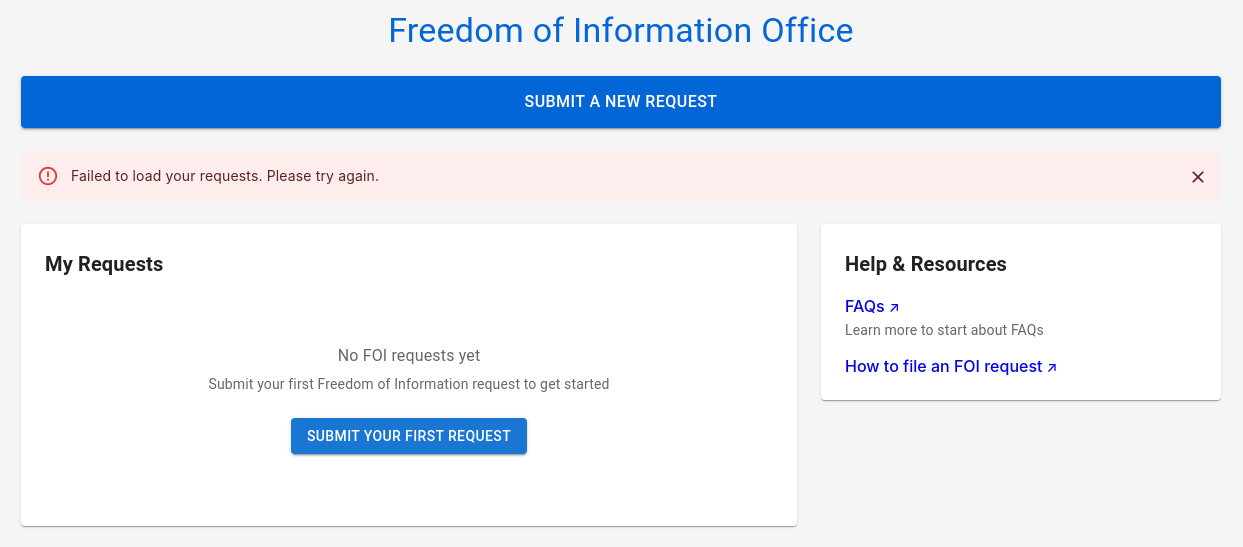
Test: PublicPortalDashboard — error alert dismissal › error alert can be dismissed
Click the button named "Close".
click(1198, 177)  # box [1183,162,1213,192]
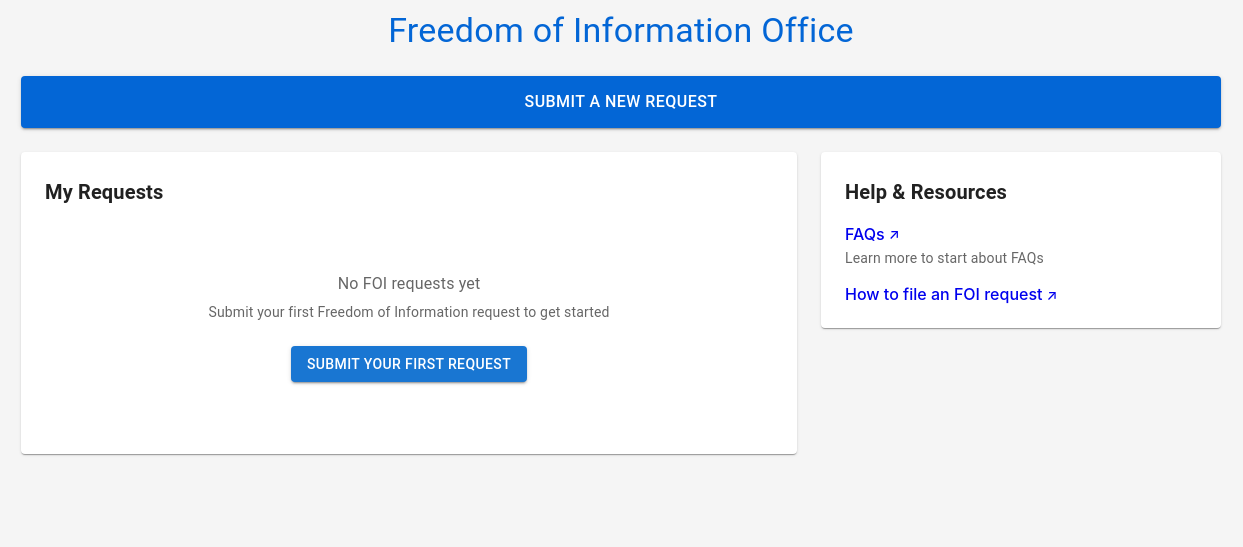
Check: the text "Failed to load your requests" is gone
